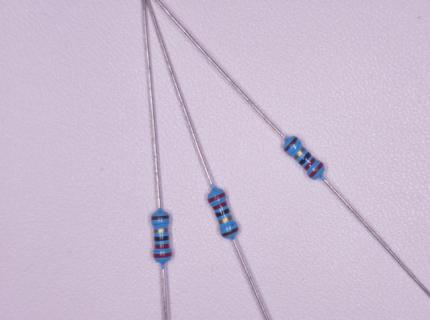Black band: (298, 152, 312, 166), (216, 208, 230, 218), (154, 235, 170, 241)
Brown band: (284, 137, 299, 152), (220, 227, 239, 237), (151, 215, 170, 220)
Gold band: (292, 147, 306, 160), (218, 215, 233, 225), (154, 228, 169, 233)
Red band: (308, 162, 324, 178), (208, 192, 226, 203), (303, 157, 317, 171), (213, 201, 227, 211), (153, 252, 171, 258), (154, 243, 170, 249)
